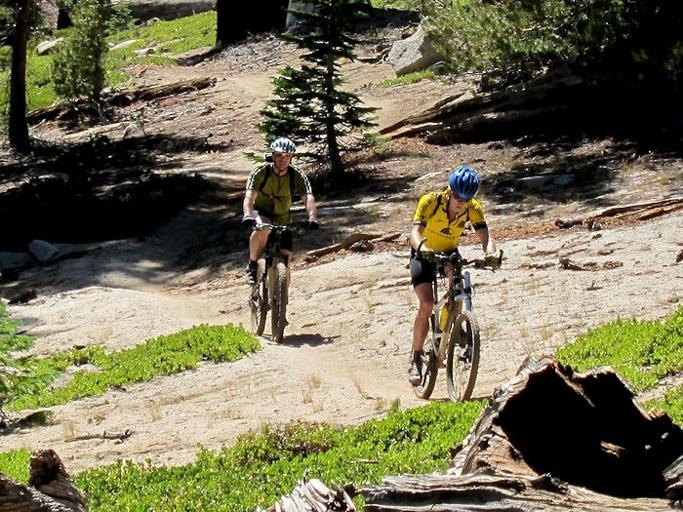non-vehicle: (406, 249, 504, 402), (238, 218, 319, 343)
